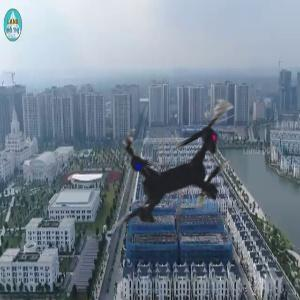drone: (54, 48, 300, 294)
